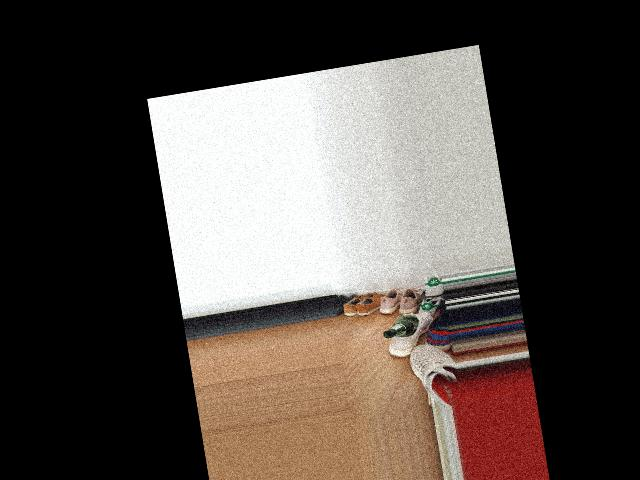beer: (381, 316, 419, 339)
